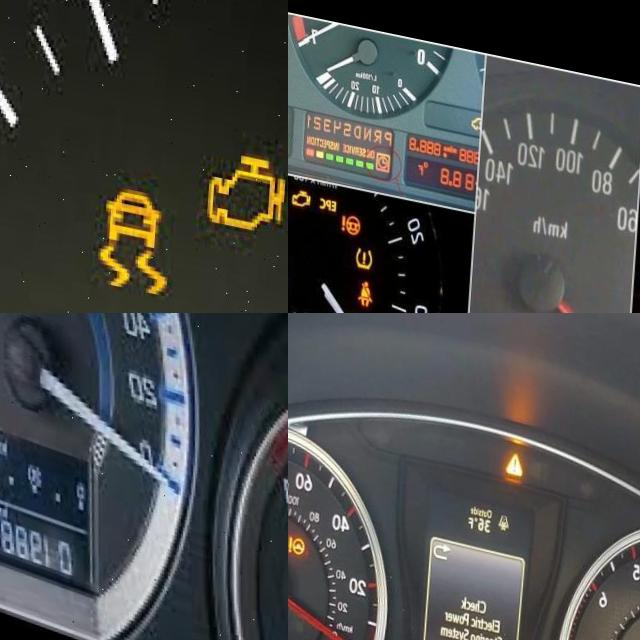Electronic Power Steering: (343, 205, 364, 229), (291, 530, 313, 551), (459, 631, 487, 640)
Seat Belt: (362, 270, 377, 298)
